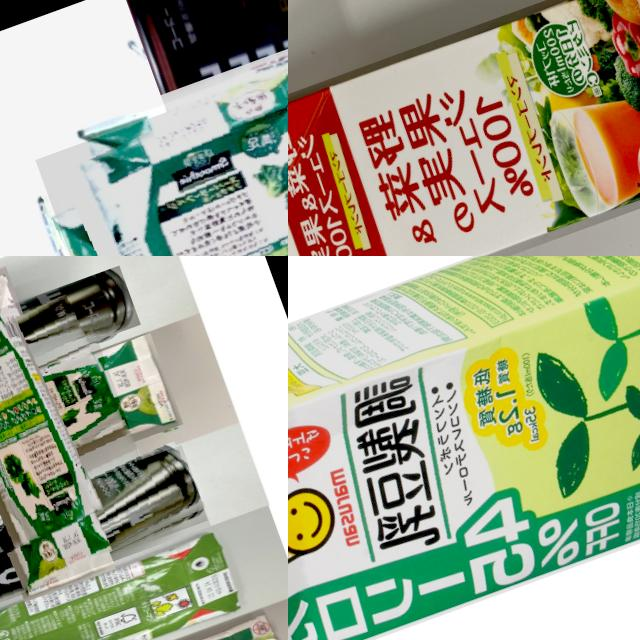Aluminium Foil: (288, 256, 640, 640), (288, 0, 640, 256), (34, 33, 288, 256), (0, 293, 155, 574), (0, 527, 248, 640)
Can: (0, 445, 210, 622), (122, 0, 288, 149), (0, 265, 140, 424)
